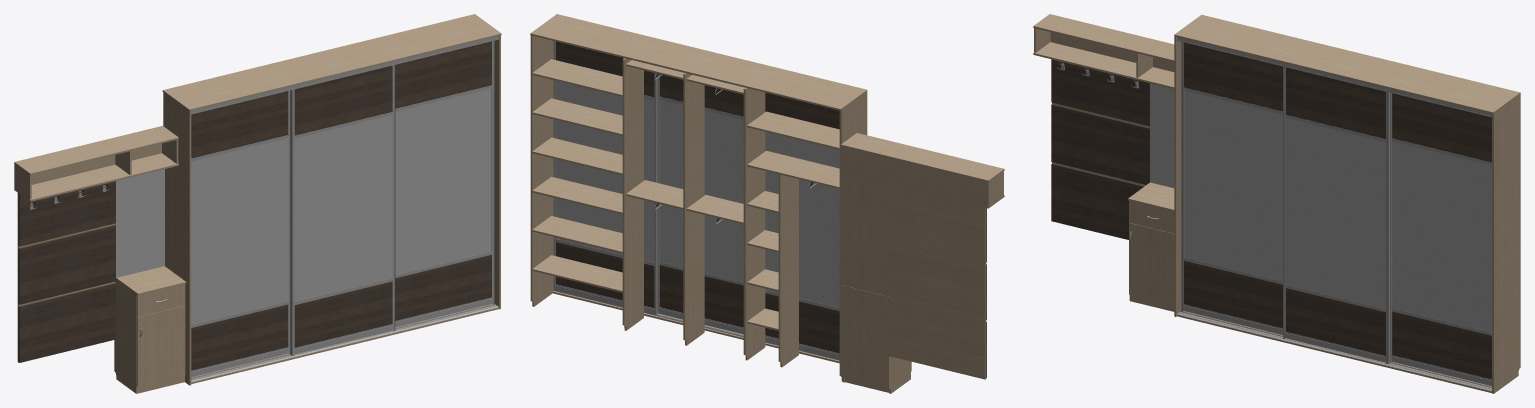
File: Wardrobe-09.fbx
3 renders of one model, left to right at view 1: azimuth 30°, elevation 25°; view 2: azimuth 150°, elevation 25°; view 3: azimuth 330°, elevation 25°, orthographic. The views are drawn at different scales.
Visible parts, largest first — view 1: Object002, Object003, Object001; view 2: Object003, Object002; view 3: Object002, Object003, Object001.
Boxes of the visible parts, x1,y1,x2,y2 form: Object002: [18, 36, 498, 383]; Object003: [14, 14, 501, 393]; Object001: [116, 88, 491, 387]; Object003: [530, 14, 1004, 393]; Object002: [532, 41, 986, 377]; Object002: [1051, 37, 1491, 392]; Object003: [1033, 14, 1520, 393]; Object001: [1129, 83, 1392, 307].
Bounding box in the file's own units: 4281 × 2450 × 456.
